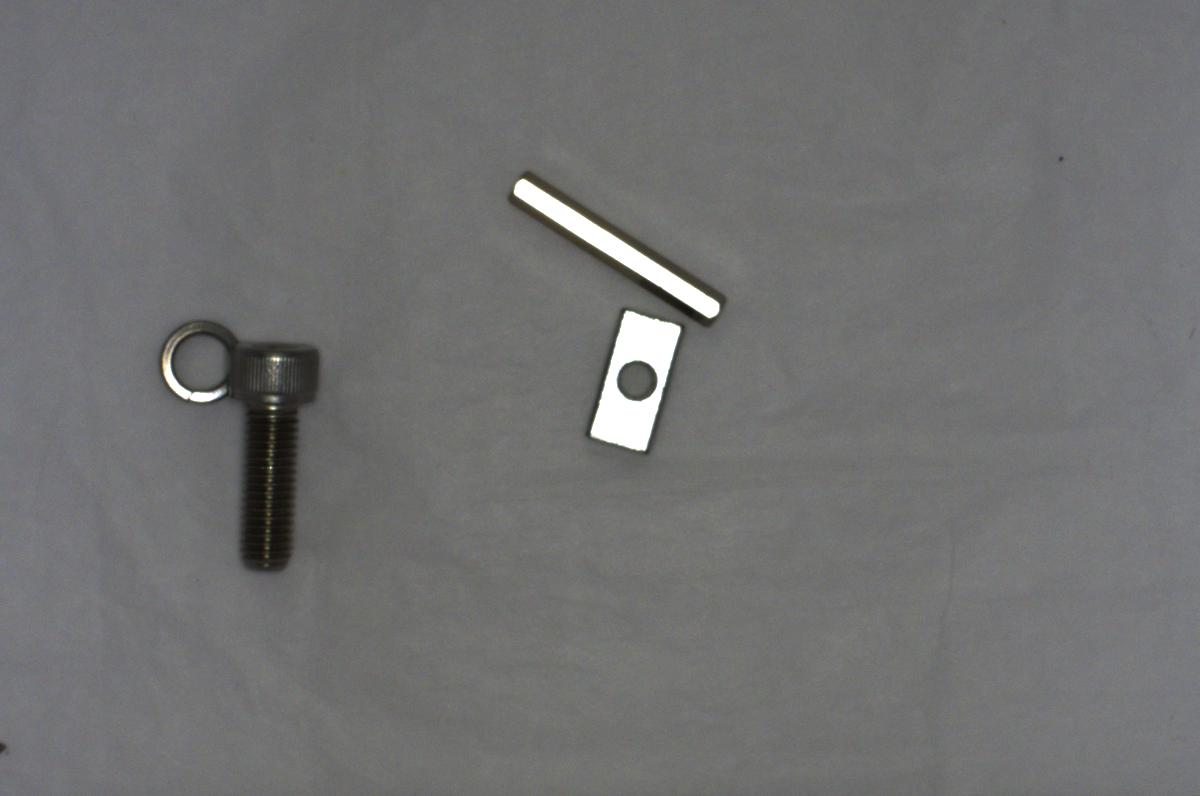Double hexagonal column: (500, 168, 724, 323)
Hexagon screw: (222, 338, 327, 576)
Rectangular nut: (581, 299, 691, 455)
Spring washer: (145, 313, 244, 409)
